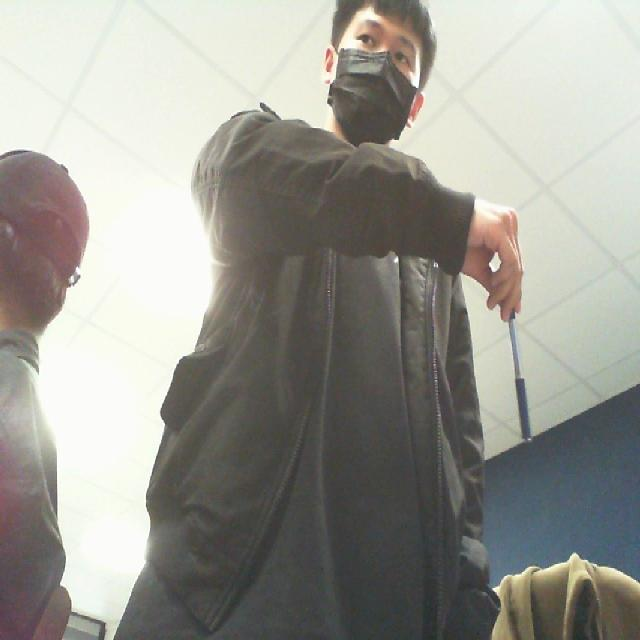Pen: (487, 283, 551, 464)
